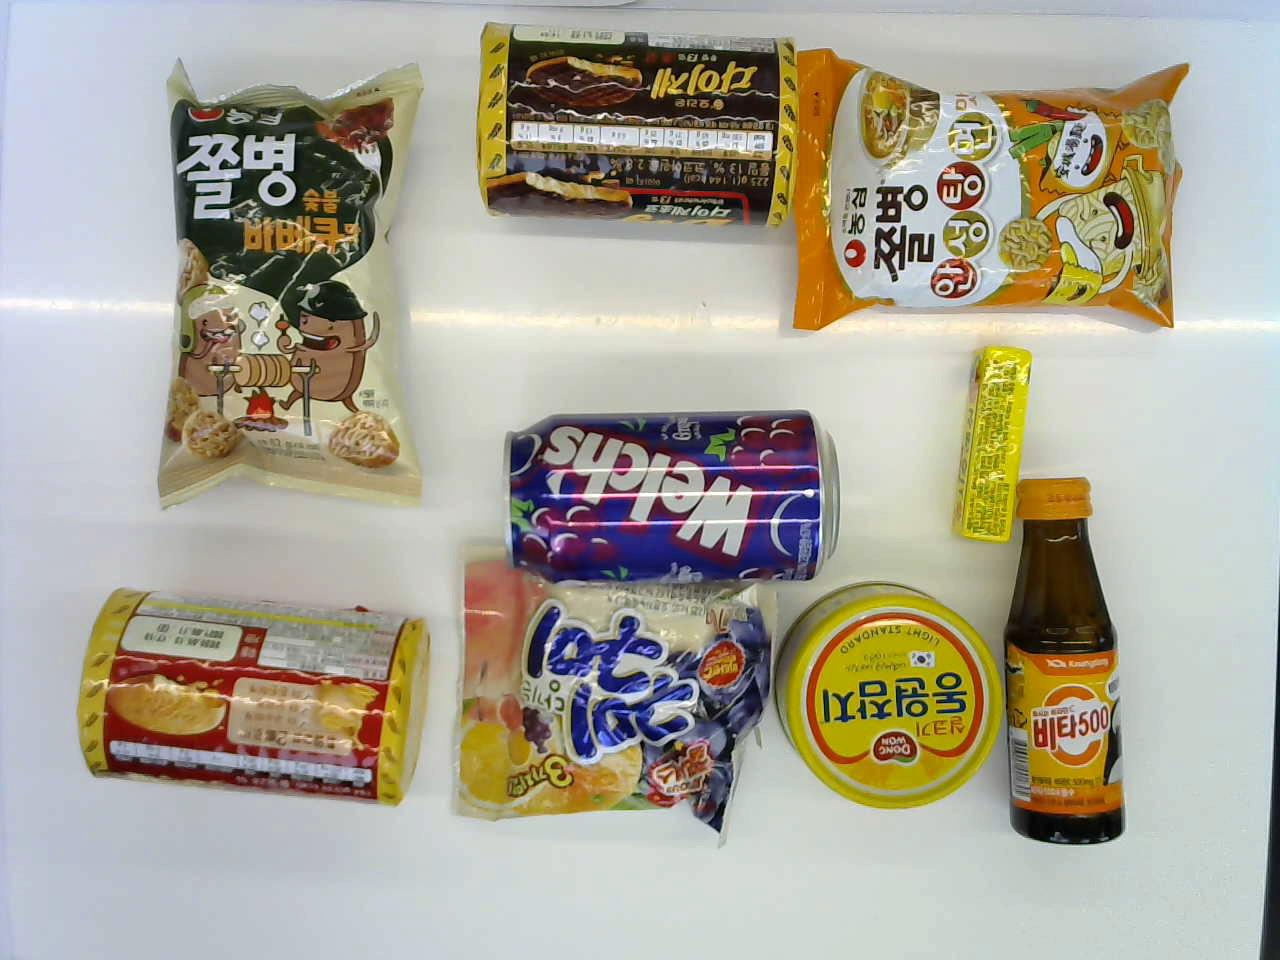diget_choco: (468, 14, 804, 223)
diget_ori: (72, 581, 432, 815)
gumi_gumi: (450, 573, 774, 831)
jjolbyung_noodle: (786, 59, 1208, 334)
jjolbyung_ori: (145, 57, 415, 502)
juicyfresh: (934, 338, 1037, 552)
tuna: (777, 582, 996, 822)
vita500: (1007, 461, 1121, 848)
welchs: (509, 393, 841, 585)
